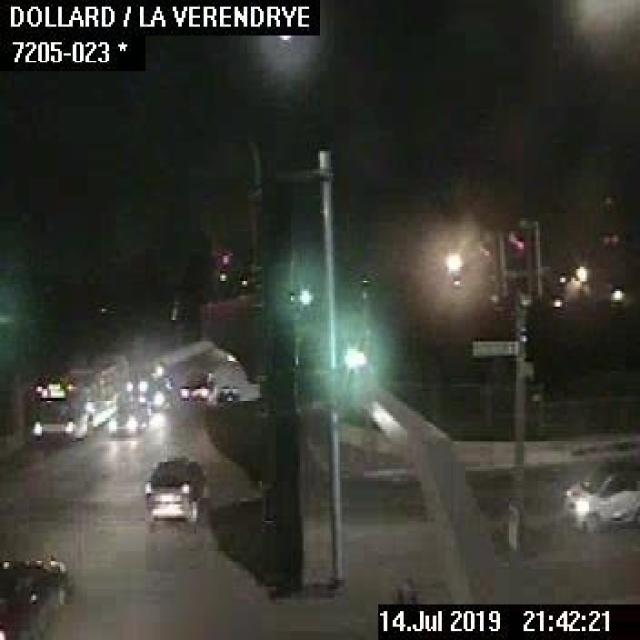bus: (26, 351, 132, 442)
vehicle: (560, 458, 638, 531), (0, 553, 65, 637), (142, 456, 209, 524), (107, 398, 149, 438), (138, 375, 172, 410), (178, 371, 211, 407), (212, 378, 238, 405)
